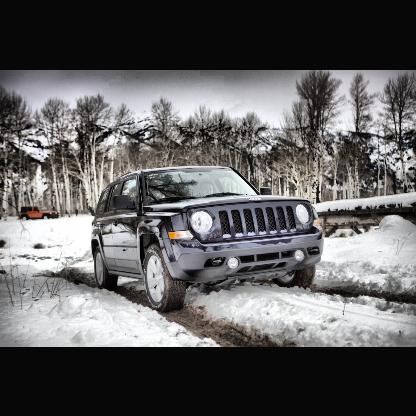Jeep Patriot SUV 2012: (93, 164, 326, 312)
